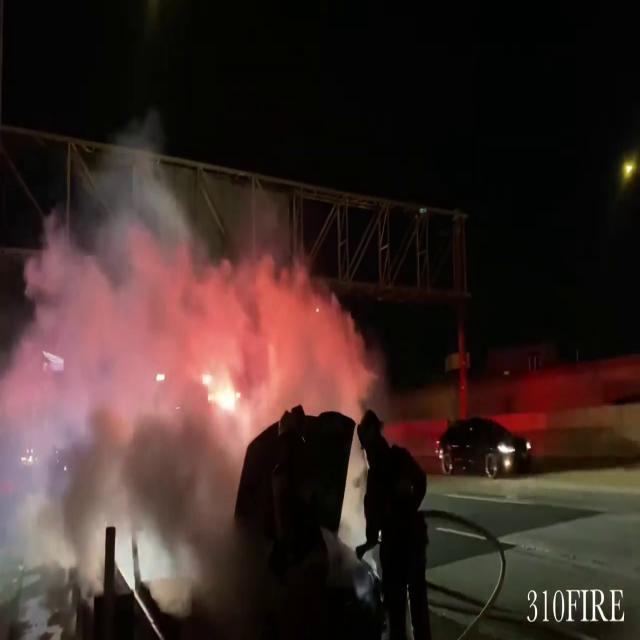Fire: (197, 350, 245, 424)
Smoke: (0, 132, 366, 617)
